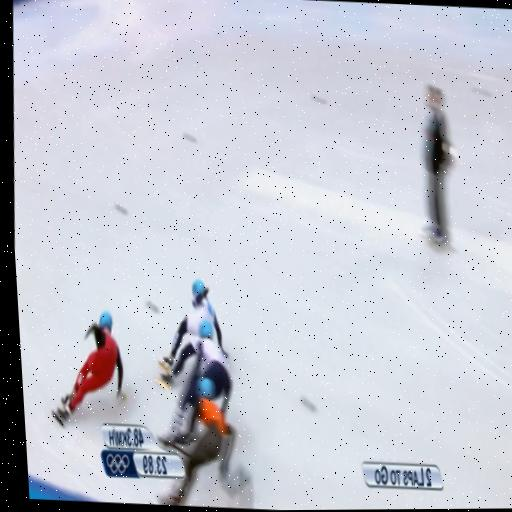Skater: (158, 379, 235, 505), (157, 321, 231, 445), (51, 311, 124, 426), (159, 280, 226, 384)
